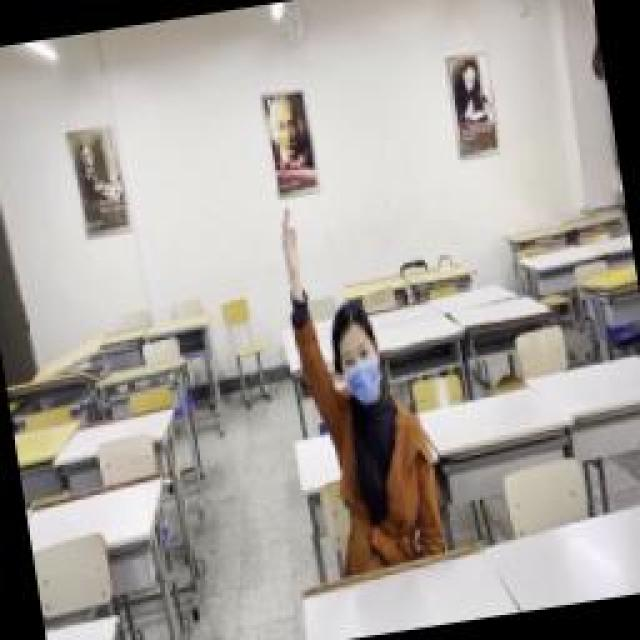study: (280, 190, 445, 568)
